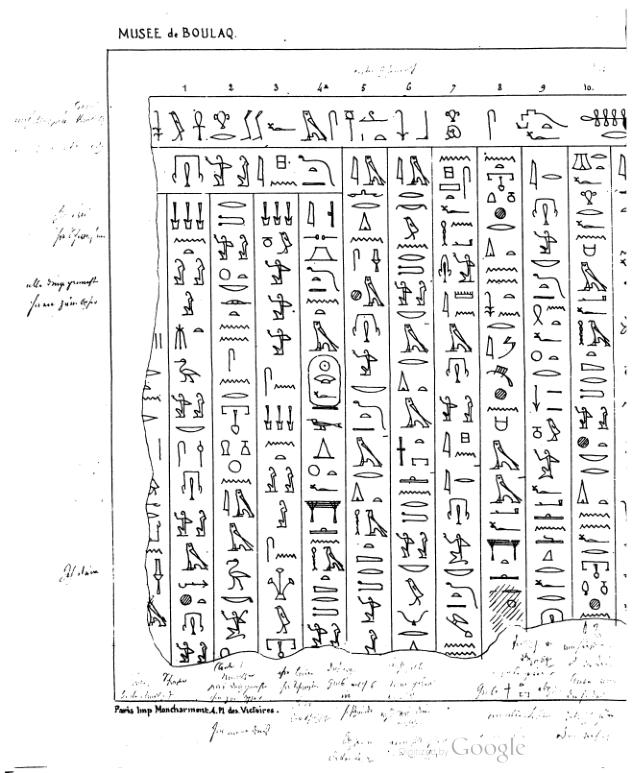circle: (305, 353, 342, 413)
